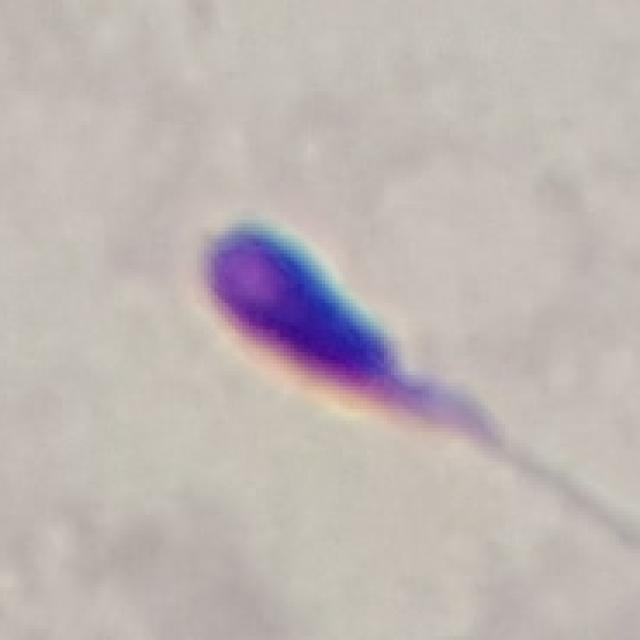abnormal sperm: (200, 220, 533, 478)
